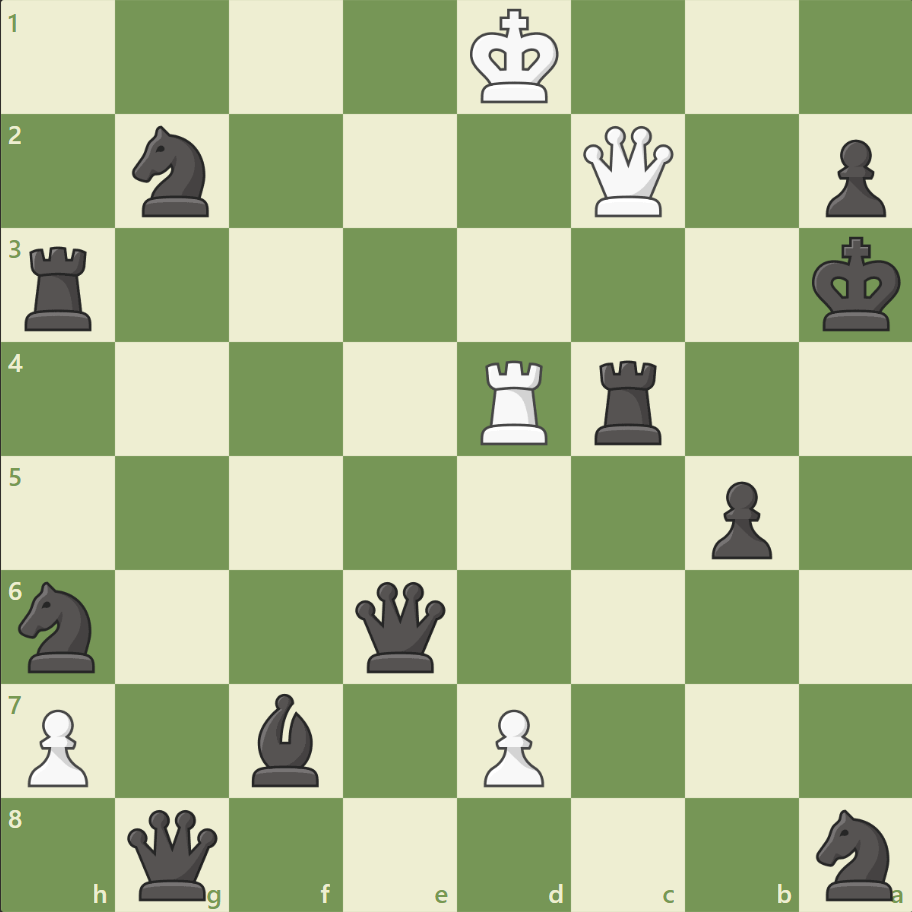K: (465, 4, 565, 112)
P: (474, 700, 549, 791), (20, 700, 95, 791)
Q: (578, 122, 677, 222)
R: (473, 352, 556, 449)
b: (244, 687, 328, 790)
k: (806, 231, 906, 339)
n: (124, 121, 222, 223), (806, 802, 903, 904), (11, 575, 108, 677)
p: (701, 473, 776, 564), (815, 132, 889, 223)
q: (351, 576, 450, 676), (124, 804, 223, 903)
r: (587, 352, 670, 449), (19, 239, 102, 336)
